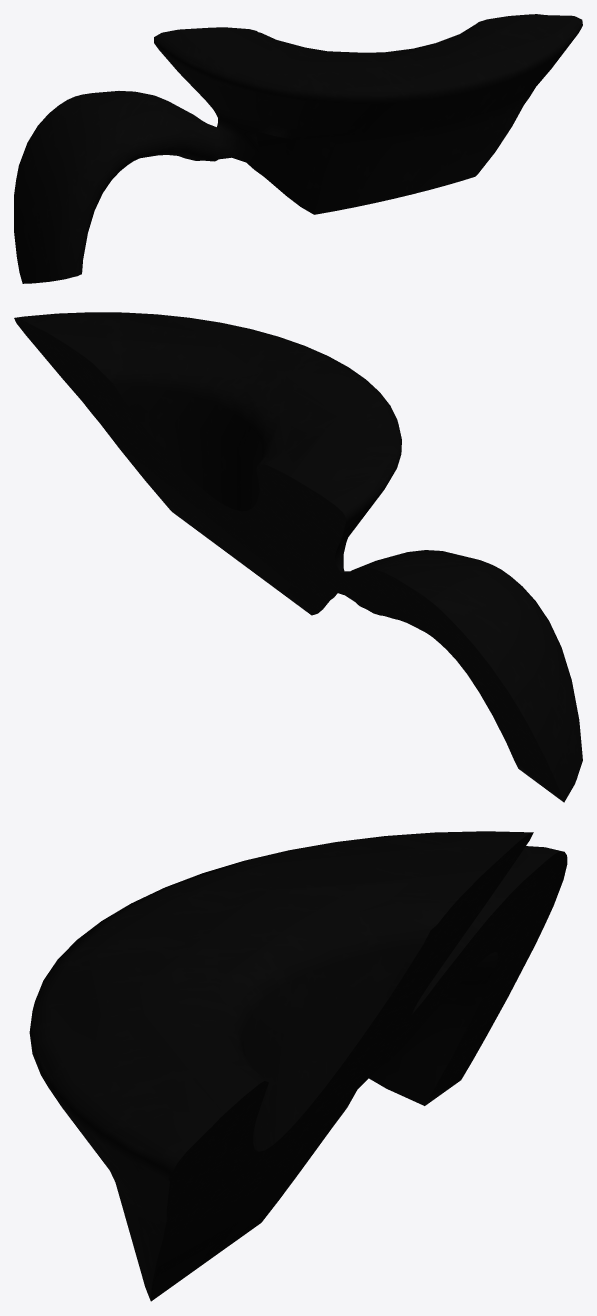
The picture shows the model from 3 angles, top to bottom: view 1: azimuth 30°, elevation 25°; view 2: azimuth 150°, elevation 25°; view 3: azimuth 270°, elevation 25°; orthographic projection. The views are drawn at different scales.
Visible parts, largest first — view 1: Cylinder_cell.003; view 2: Cylinder_cell.003; view 3: Cylinder_cell.003.
Part boxes in pixels (box(x1,y1,x2,y2)): Cylinder_cell.003: box(14, 14, 582, 283); Cylinder_cell.003: box(14, 312, 582, 802); Cylinder_cell.003: box(29, 831, 567, 1301).
Bounding box in the file's own units: 1.35 × 0.5338 × 0.6407.
1 material, 1 textured.
